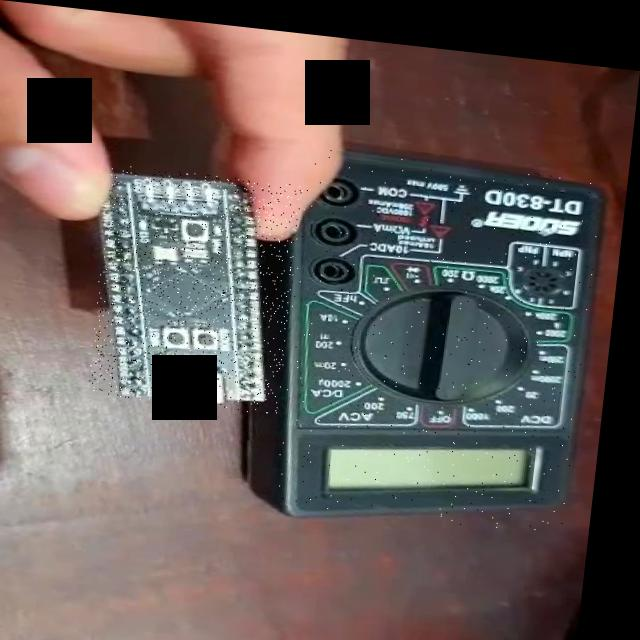multimeter: (281, 140, 606, 522)
stm32: (95, 161, 307, 408)
